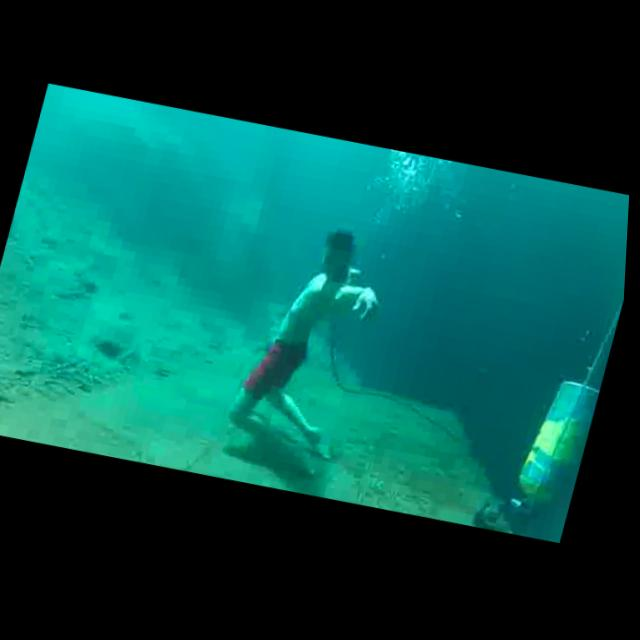human: (218, 213, 408, 493)
